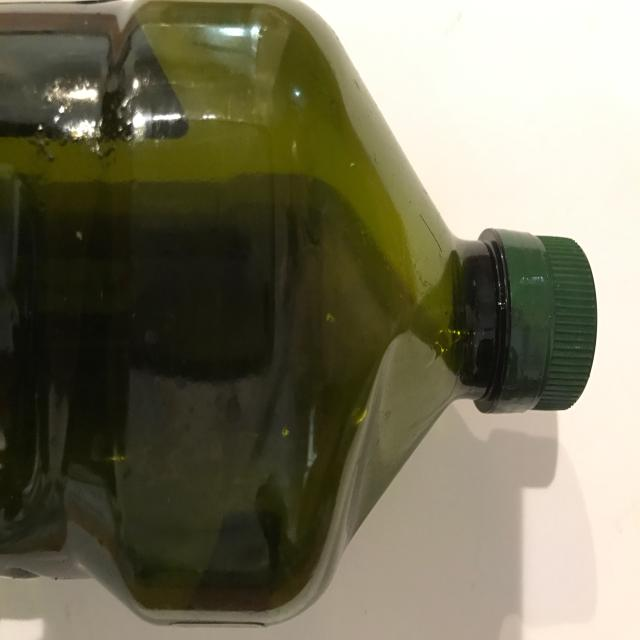plastic: (1, 0, 597, 629)
